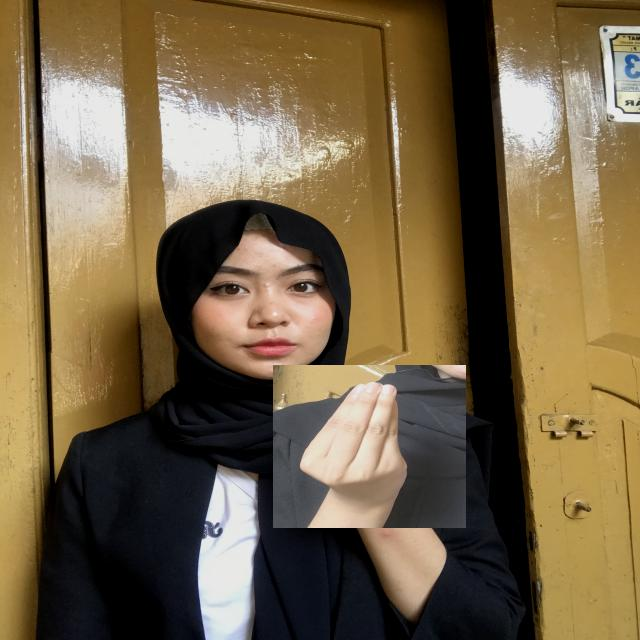kapan: (273, 365, 466, 528)
